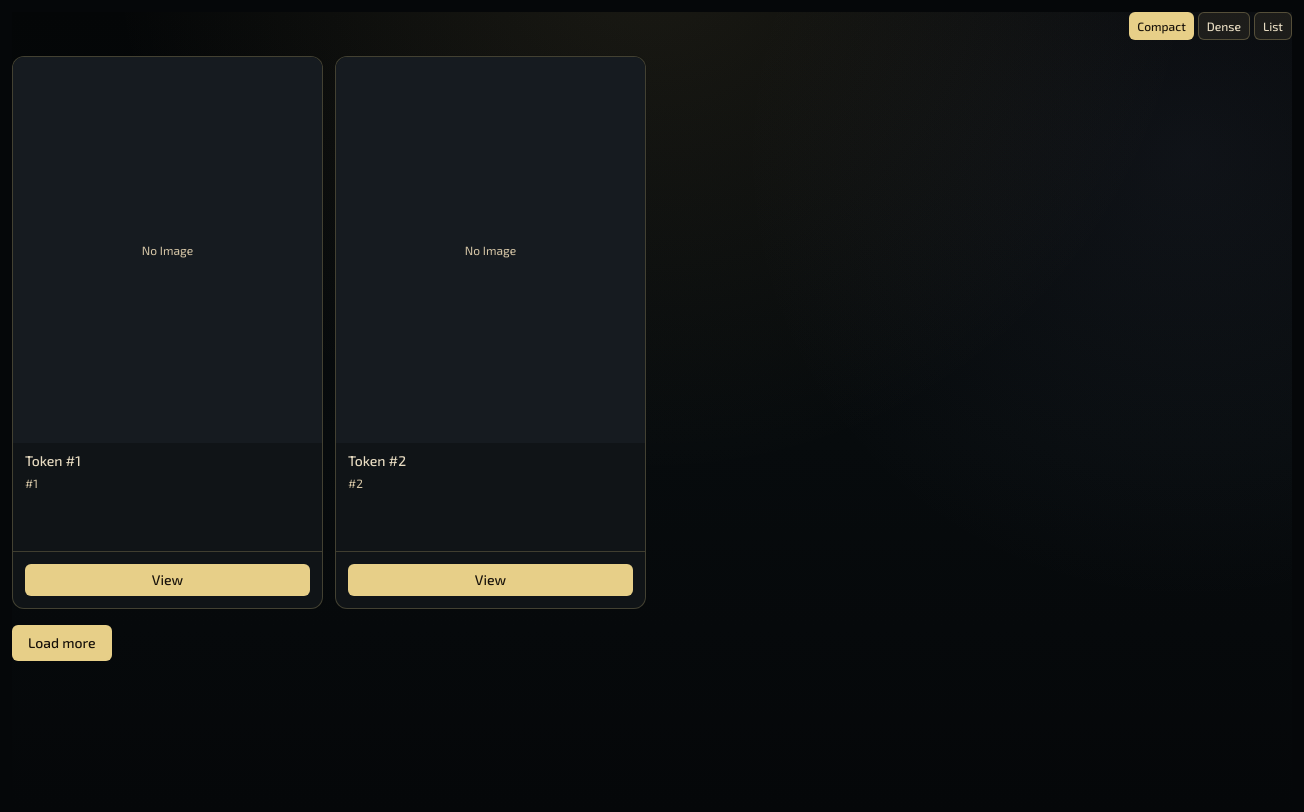
Test: collection token grid › token_grid_loads_next_cursor_page_without_duplicates
Expected: the text "Token #1" is shown, [25,452,81,469]
Expected: the text "Token #2" is shown, [348,452,406,469]
What coordinates should you click on to do the following:
click the button "Load more"
I would click on:
 (62, 643)
Its box is [12,625,112,661].
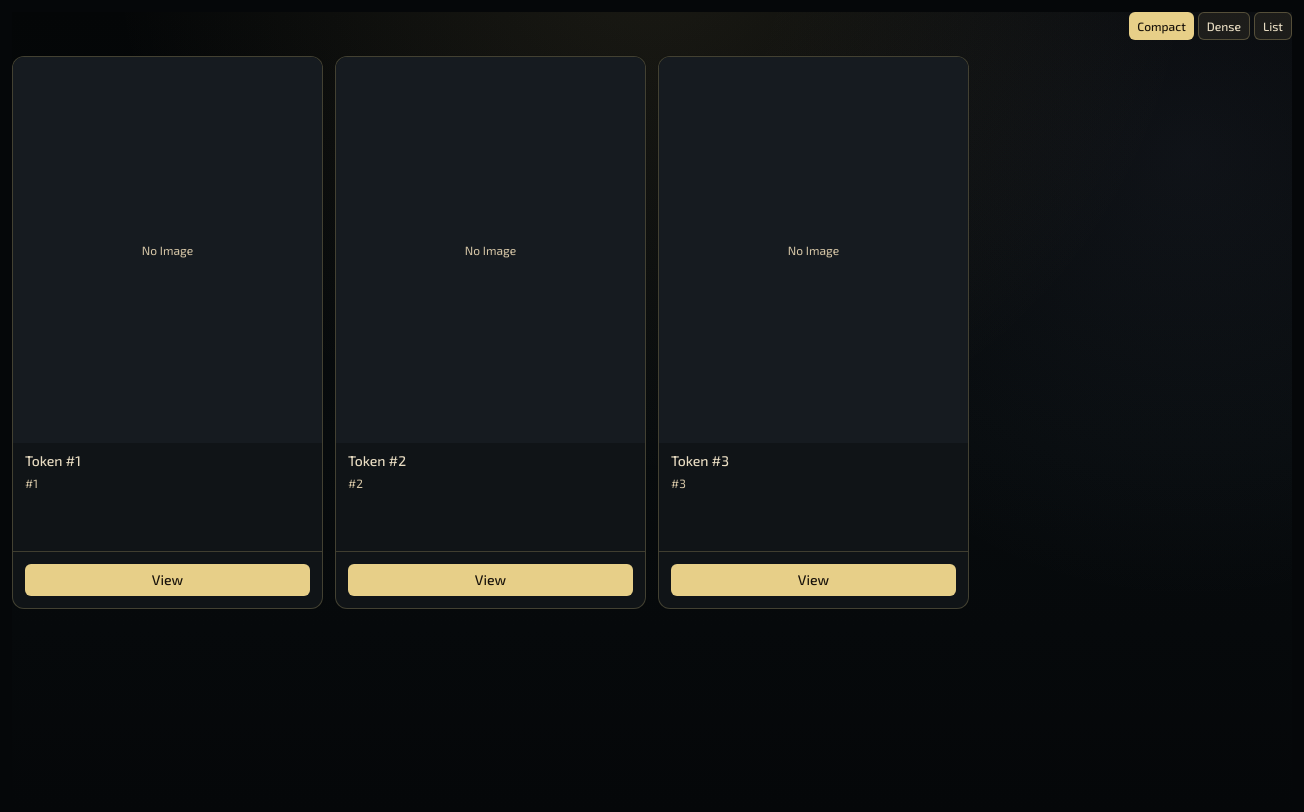
Expected: the text "Token #2" is shown once, [348,452,406,469]
Expected: the element named "token-3" is shown, [671,452,729,490]
